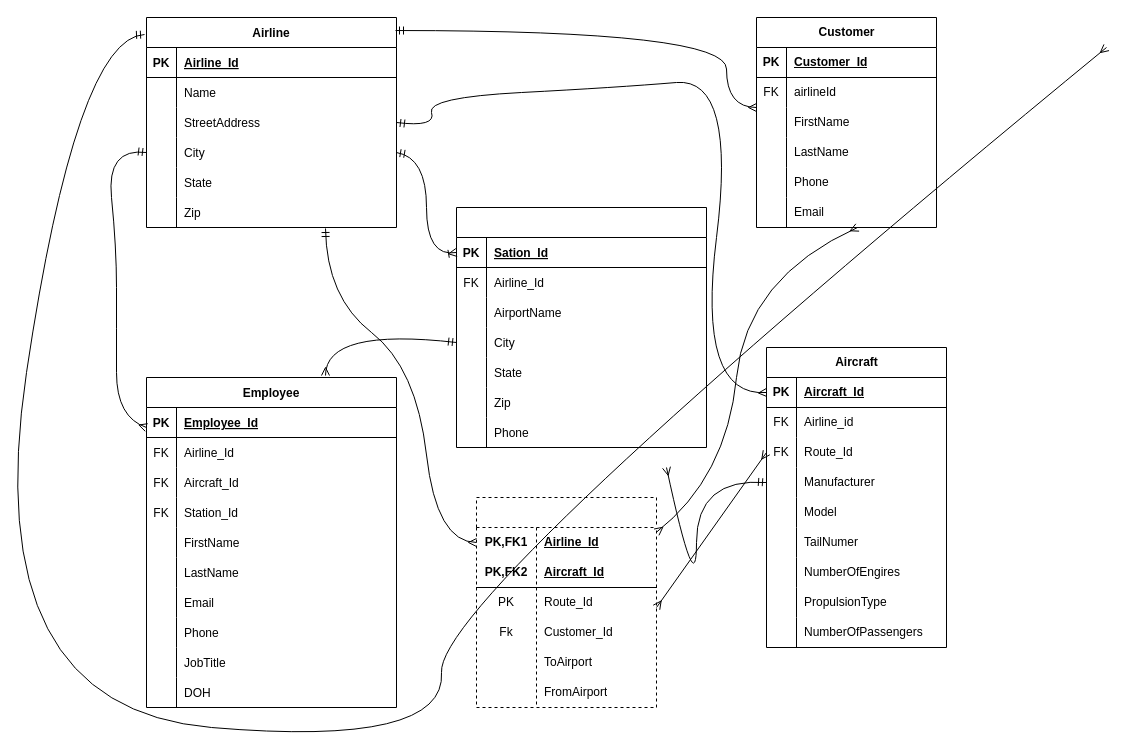
The diagram is 1127 pixels wide and 750 high, and some of its shapes have lost their labels. The box of each missing label's shape, as (x1, y1, x2, y2) in pixels:
Routes: (476, 496, 656, 708)
Stations: (456, 206, 706, 448)
